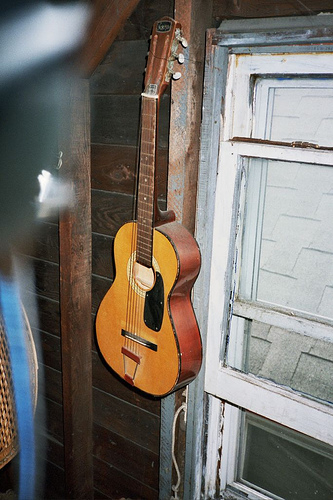guitar: (90, 17, 208, 401)
